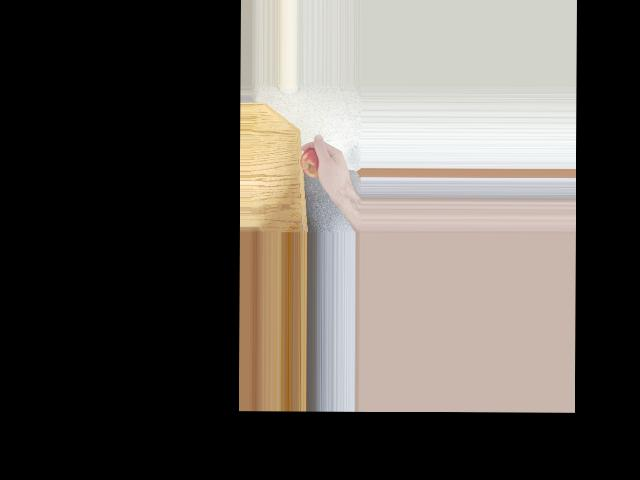apple: (297, 145, 326, 173)
